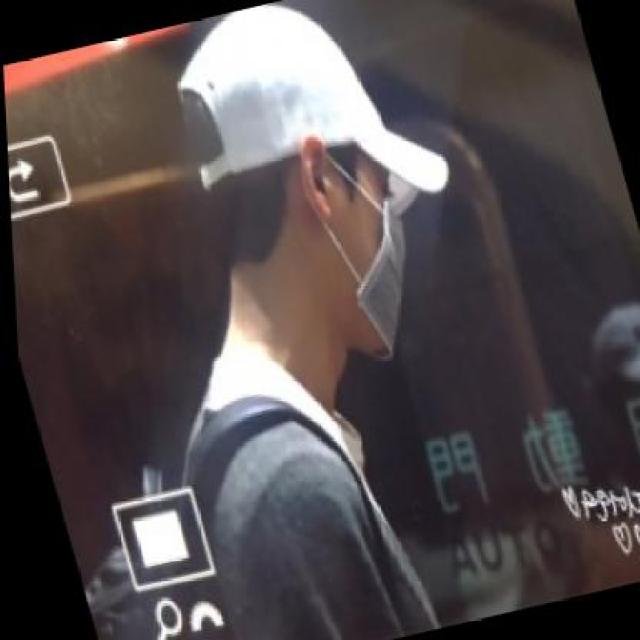hat: (150, 0, 464, 266)
